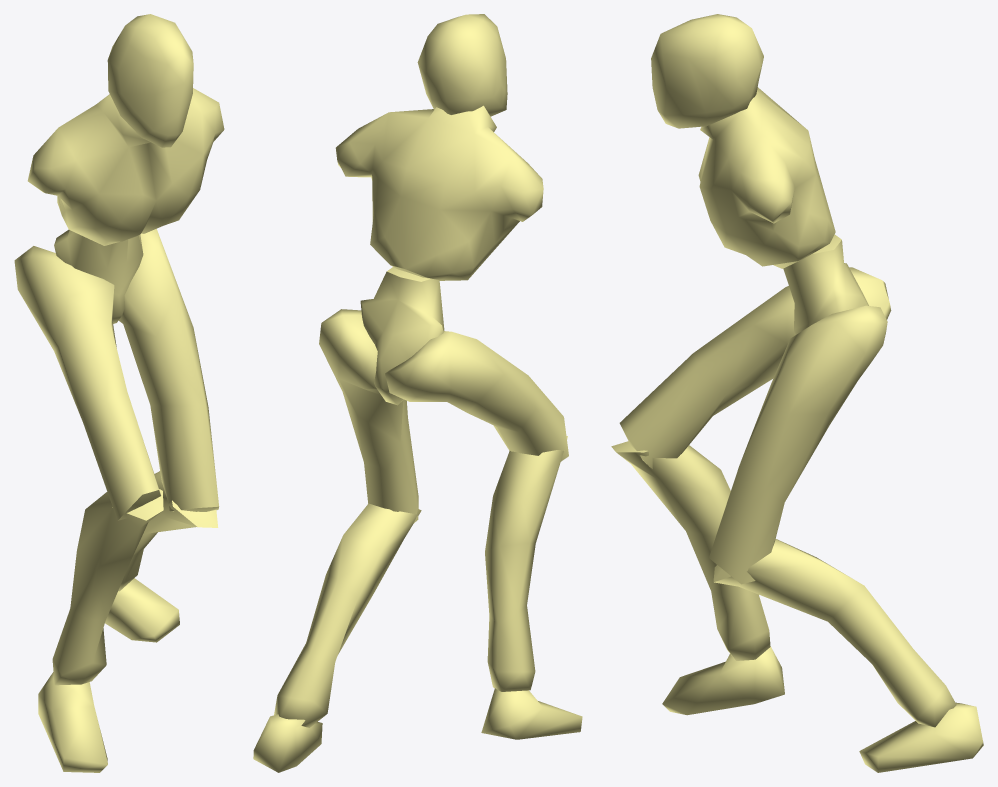
File: filth16.obj
3 views of the same model, side by side, from view 1: azimuth 30°, elevation 25°; view 2: azimuth 150°, elevation 25°; view 3: azimuth 270°, elevation 25° (orthographic). The views are drawn at different scales.
Parts seen in each view (by area): view 1: Melee_Husk; view 2: Melee_Husk; view 3: Melee_Husk.
Boxes of the visible parts, x1=… form: Melee_Husk: x1=14, y1=14, x2=224, y2=772; Melee_Husk: x1=253, y1=14, x2=582, y2=772; Melee_Husk: x1=611, y1=14, x2=983, y2=772.
Size of the model in its own units: 22.13 by 71.28 by 32.86.
